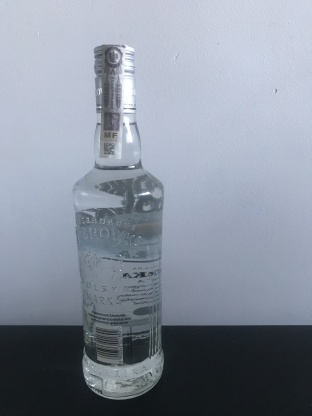nakretka: (90, 39, 139, 116)
